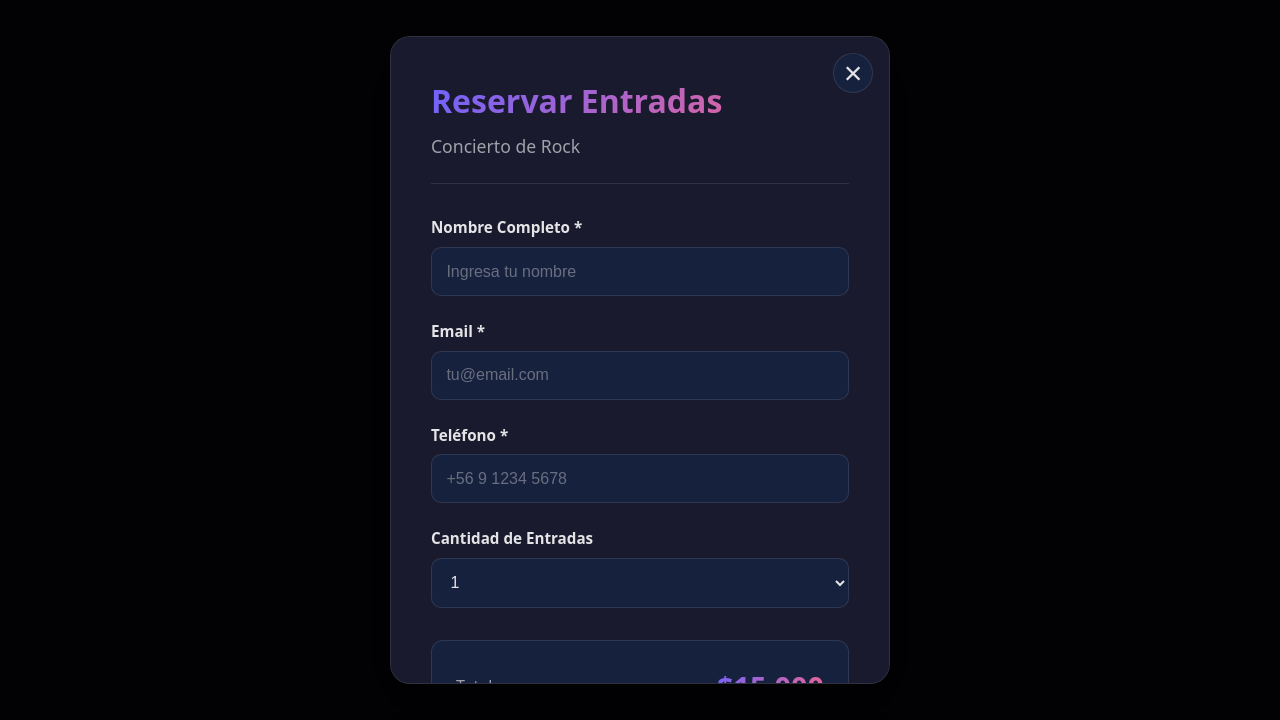
Test: ReservaModal Component › muestra mensaje de éxito después de enviar el formulario
Note: Llenar el formulario
Type "Juan Pérez" into the field labelled "Nombre Completo *" at (640, 272), box [431,247,849,296]
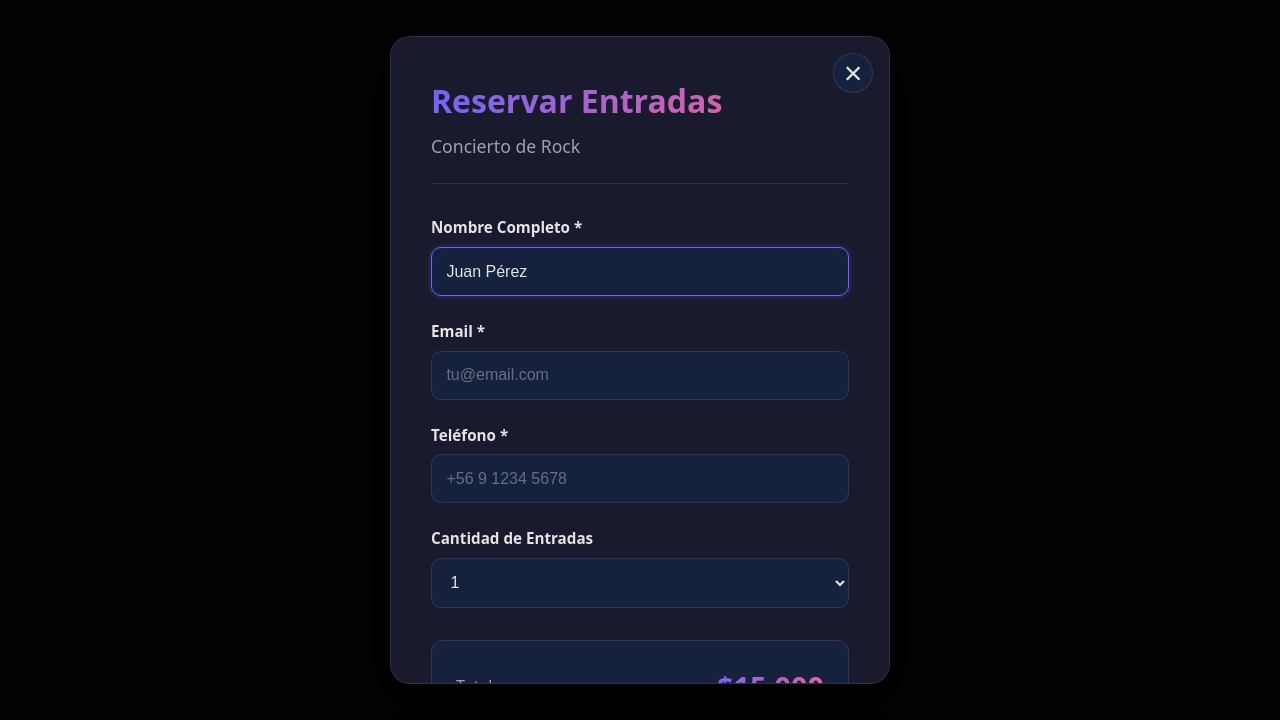
Type "juan@example.com" into the field labelled "Email *" at (640, 375), box [431,351,849,400]
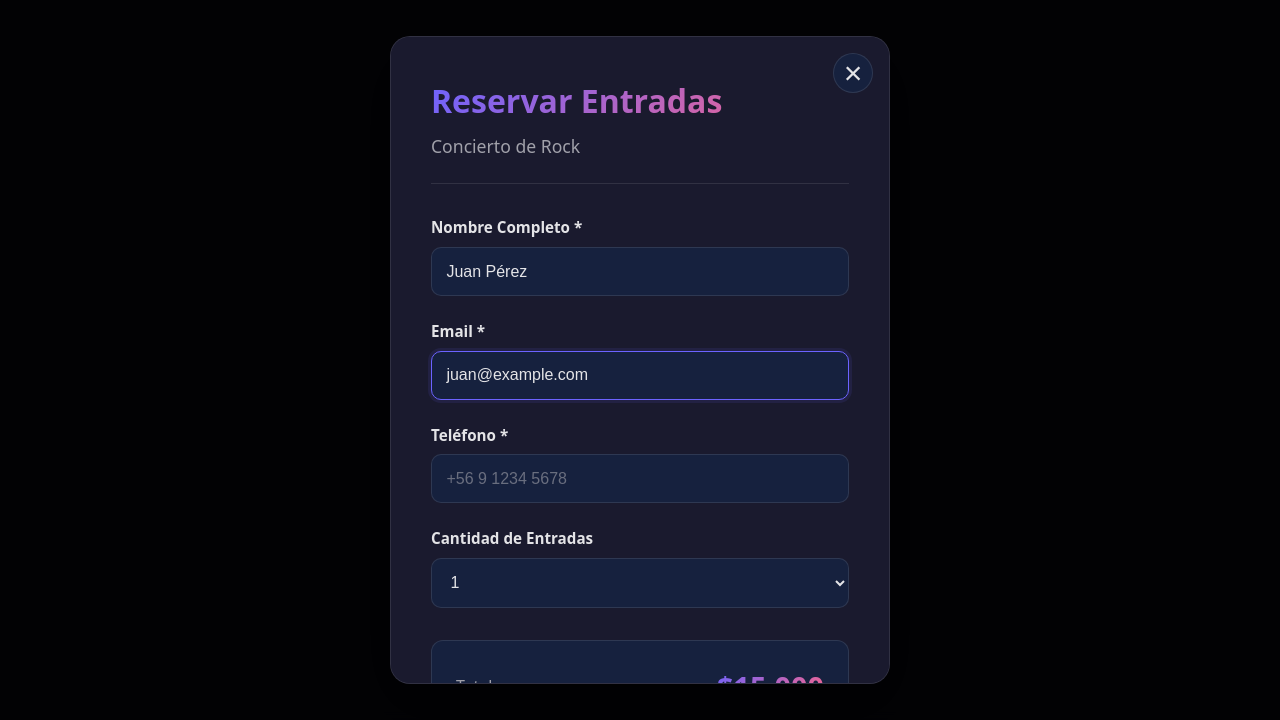
Type "+56912345678" into the field labelled "Teléfono *" at (640, 479), box [431,454,849,503]
(page scrolled)
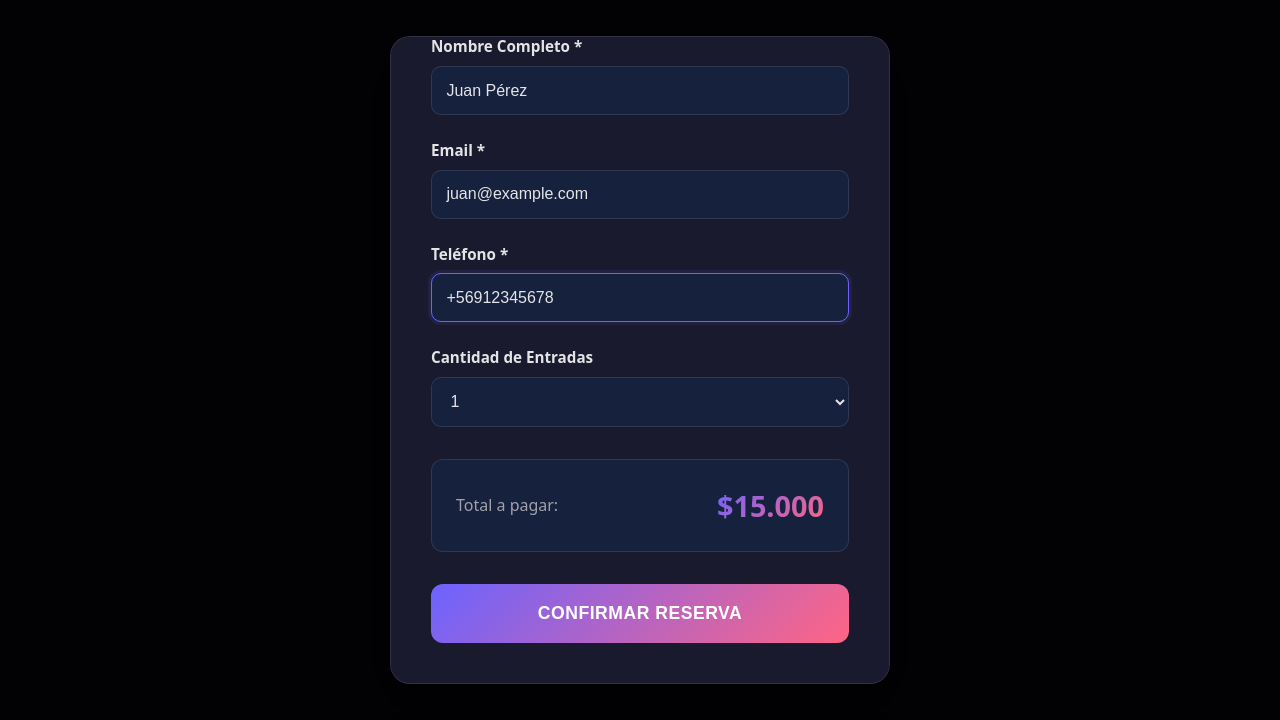
Note: Enviar el formulario
Click the button "Confirmar Reserva" at (640, 614), box [431,584,849,643]
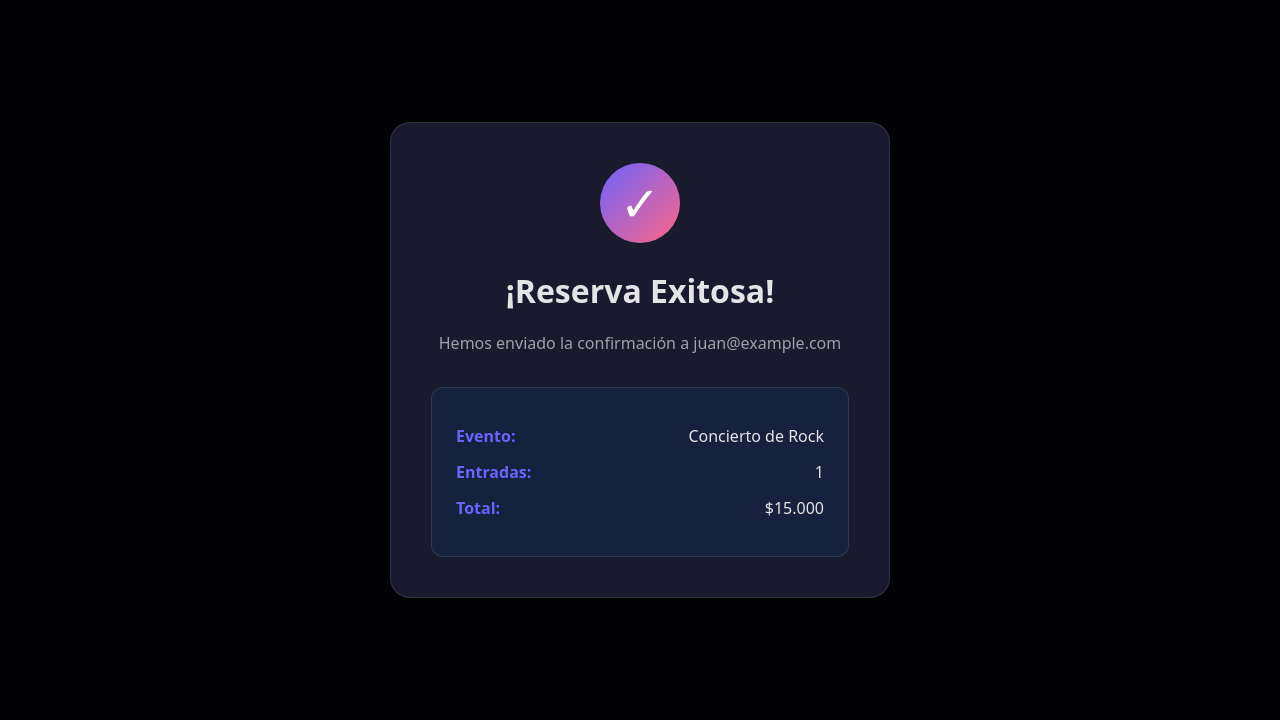
Expected: the heading "¡Reserva Exitosa!" is shown, [506,269,774,312]
Expected: the text "Hemos enviado la confirmación a juan@example.com" is shown, [431,331,849,355]
Expected: the text "Concierto de Rock" is shown, [688,425,824,447]
